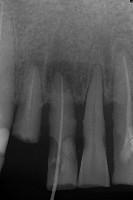Furcation Involvement: (43, 59, 84, 96)
